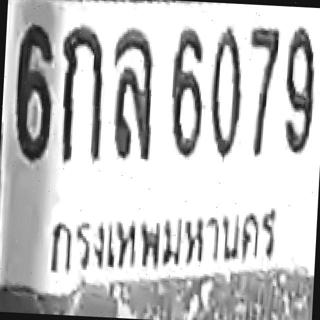A01: (57, 24, 105, 161)
A36: (108, 27, 156, 160)
N00: (208, 25, 245, 159)
N06: (12, 23, 54, 160), (167, 26, 206, 158)
N07: (244, 26, 279, 156), (246, 26, 280, 130), (246, 26, 279, 116), (248, 26, 280, 106)
N09: (280, 27, 317, 154)
P04: (43, 198, 287, 286)
